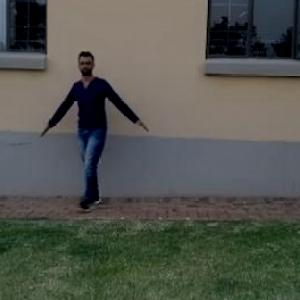land: (47, 56, 154, 221)
